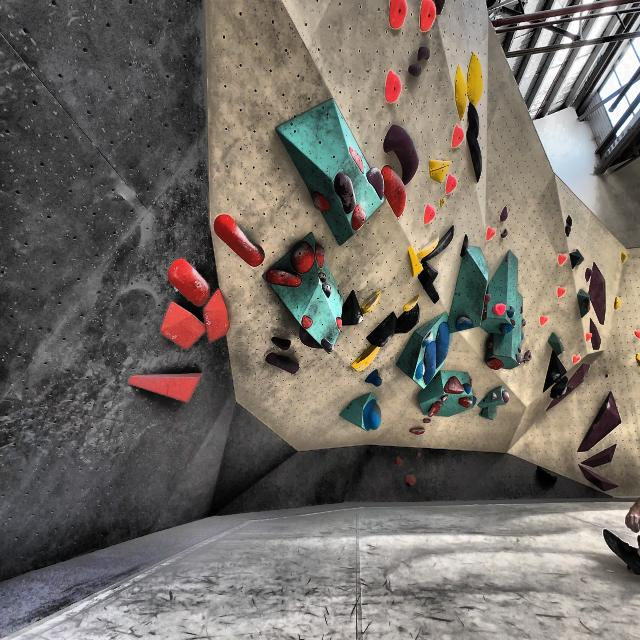Hold: (575, 389, 622, 454), (213, 212, 265, 266), (542, 363, 590, 413), (129, 372, 200, 403), (383, 124, 419, 185), (164, 255, 209, 303), (586, 256, 610, 325), (204, 286, 231, 341), (380, 164, 406, 218), (421, 224, 457, 262), (540, 350, 569, 394), (575, 464, 622, 491), (366, 310, 396, 348), (465, 126, 482, 187), (466, 52, 484, 105), (395, 304, 422, 339), (582, 444, 624, 466), (342, 287, 364, 328), (350, 346, 382, 374), (335, 172, 355, 213), (360, 398, 383, 433), (452, 64, 466, 121), (264, 353, 300, 375), (417, 271, 441, 303), (422, 338, 437, 389), (364, 163, 384, 200), (294, 326, 323, 351), (290, 242, 314, 272), (435, 318, 449, 369), (417, 233, 442, 260), (549, 374, 570, 404), (263, 271, 302, 287), (388, 0, 408, 29), (406, 246, 425, 276), (417, 0, 435, 31), (384, 69, 399, 104), (430, 159, 450, 185), (360, 289, 380, 315), (468, 101, 481, 138), (348, 144, 364, 174), (589, 317, 601, 353), (271, 334, 292, 354), (310, 190, 328, 213), (363, 370, 383, 390), (401, 293, 422, 312), (351, 203, 365, 230), (536, 464, 557, 482), (446, 372, 463, 394), (548, 331, 563, 355), (483, 358, 506, 373), (423, 262, 440, 282), (318, 335, 338, 352), (456, 316, 474, 334), (445, 173, 459, 196), (423, 204, 437, 224), (491, 300, 508, 316), (497, 320, 514, 336), (451, 125, 462, 149), (567, 247, 578, 269), (315, 242, 324, 268), (498, 388, 512, 404), (412, 363, 425, 380), (408, 62, 422, 77), (547, 368, 563, 381), (462, 232, 470, 257), (428, 404, 441, 419), (418, 46, 430, 62), (434, 0, 446, 16), (301, 310, 312, 327), (458, 394, 472, 407), (404, 474, 417, 488), (481, 306, 491, 324), (584, 266, 594, 284), (322, 283, 334, 298), (614, 292, 622, 314), (504, 303, 516, 316), (408, 427, 427, 435), (556, 284, 566, 299), (481, 290, 491, 305), (576, 248, 584, 266), (581, 294, 589, 312), (501, 204, 508, 223), (557, 253, 567, 266), (523, 349, 533, 362), (334, 316, 344, 329), (564, 212, 573, 226), (539, 312, 548, 326), (631, 352, 640, 366), (487, 225, 494, 242), (462, 384, 473, 394), (489, 391, 498, 403), (512, 352, 521, 364), (433, 398, 443, 408), (440, 196, 447, 210), (510, 316, 518, 328), (619, 248, 625, 263), (572, 354, 581, 364), (316, 271, 326, 280), (586, 331, 594, 342), (473, 396, 480, 408), (501, 229, 509, 239), (633, 328, 640, 339), (565, 226, 571, 238), (396, 456, 402, 468), (422, 416, 432, 423), (519, 333, 525, 343), (443, 393, 449, 402)
